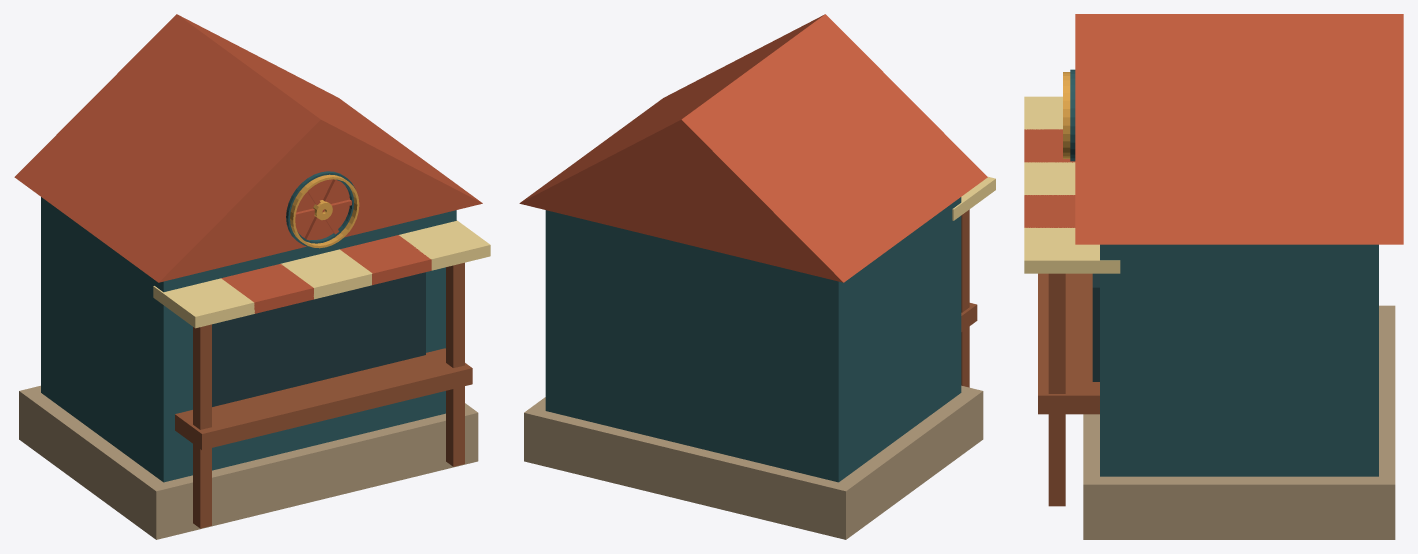
Rendered from workshop.glb.
3 renders of one model, left to right at view 1: azimuth 30°, elevation 25°; view 2: azimuth 150°, elevation 25°; view 3: azimuth 270°, elevation 25°, orthographic. The views are drawn at different scales.
Visible parts, largest first — view 1: LOD0; view 2: LOD0; view 3: LOD0.
Part boxes in pixels (bbox=[...]): LOD0: bbox=[14, 14, 490, 539]; LOD0: bbox=[519, 14, 995, 539]; LOD0: bbox=[1024, 14, 1403, 539].
Size of what is drawn, in the model's own units: 5.03 by 5.68 by 4.47.
